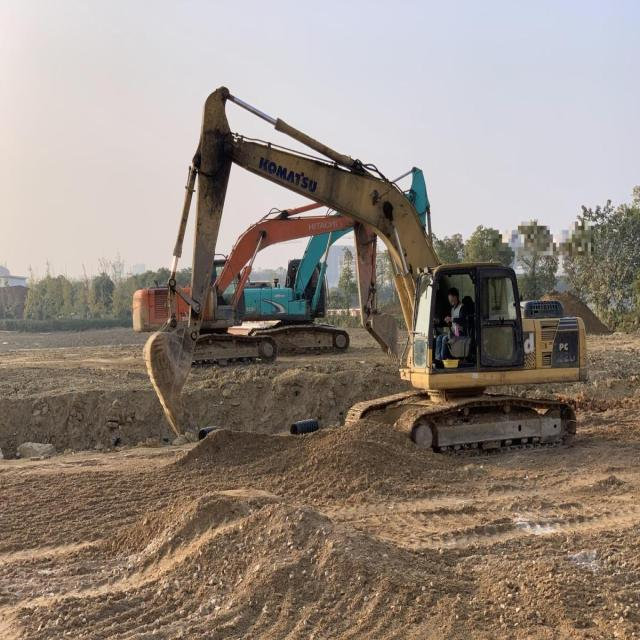excavator: (137, 78, 594, 467), (230, 149, 431, 369), (124, 194, 370, 372)
